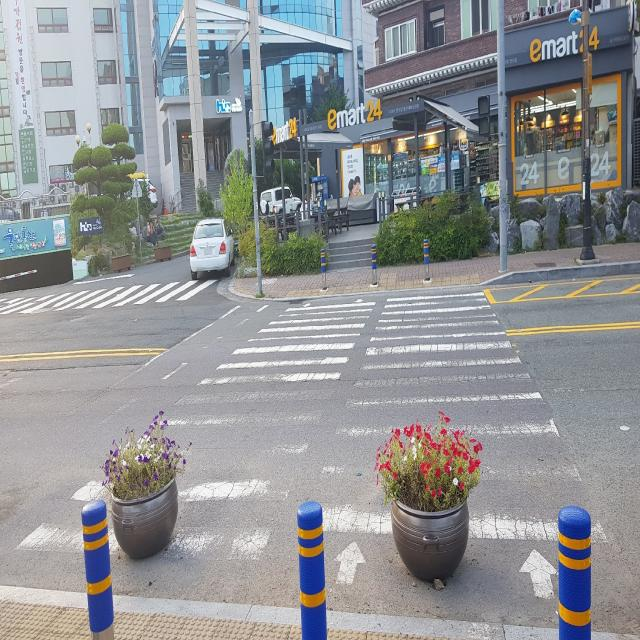횡단보도: (14, 292, 608, 599)
